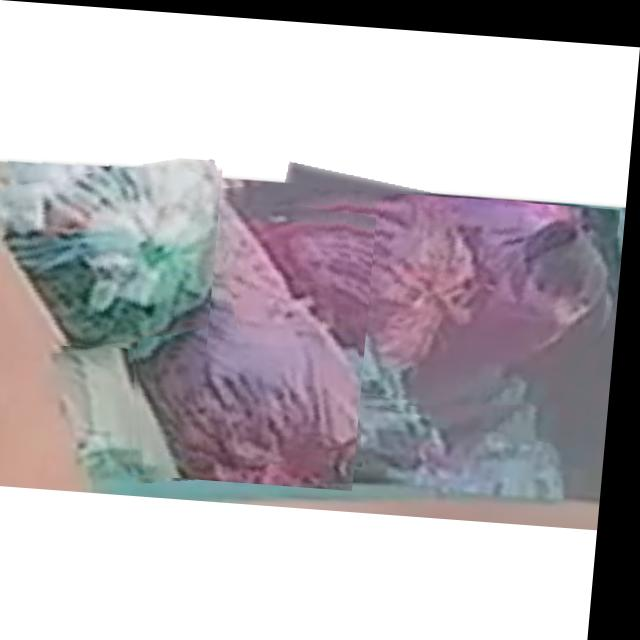general_trashbag: (0, 156, 223, 345)
other_trashbag: (285, 188, 616, 402), (141, 189, 368, 479)
